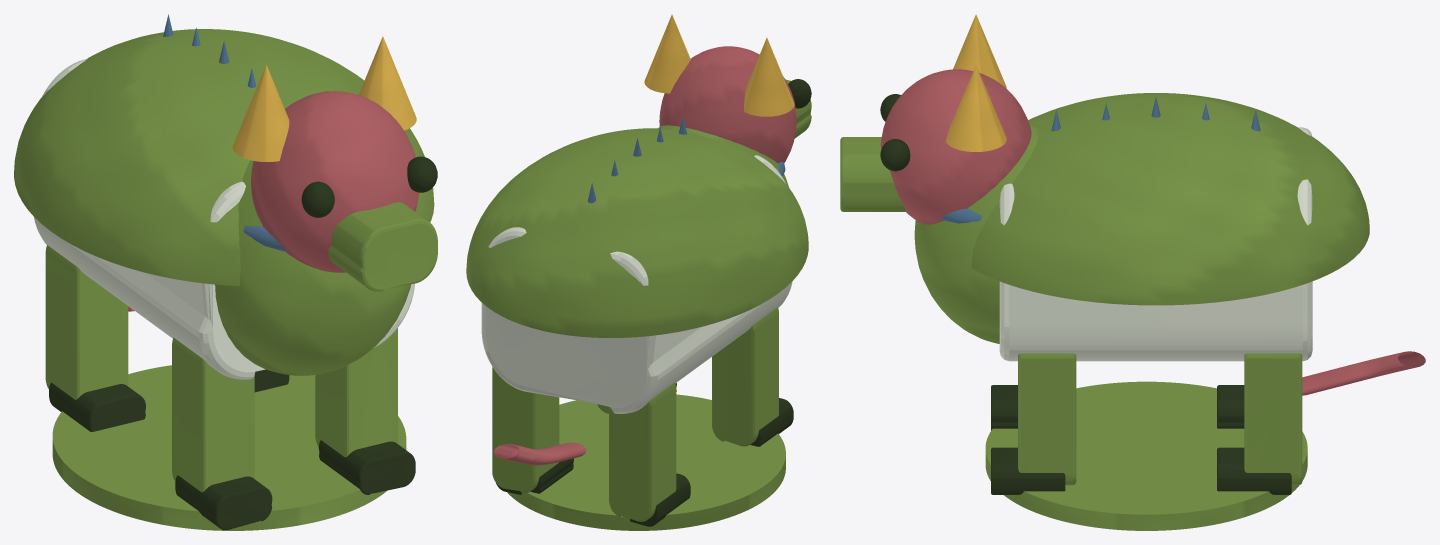
File: 0889_森林动物图鉴_黑掌树蛙.glb
3 renders of one model, left to right at view 1: azimuth 30°, elevation 25°; view 2: azimuth 150°, elevation 25°; view 3: azimuth 270°, elevation 25°, orthographic. The views are drawn at different scales.
Parts seen in each view (by area): view 1: card_0889; view 2: card_0889; view 3: card_0889.
Part boxes in pixels (x1=…): card_0889: x1=14, y1=14, x2=437, y2=530; card_0889: x1=466, y1=14, x2=811, y2=530; card_0889: x1=840, y1=14, x2=1425, y2=530.
Bounding box in the file's own units: 0.762 × 1 × 1.25.
